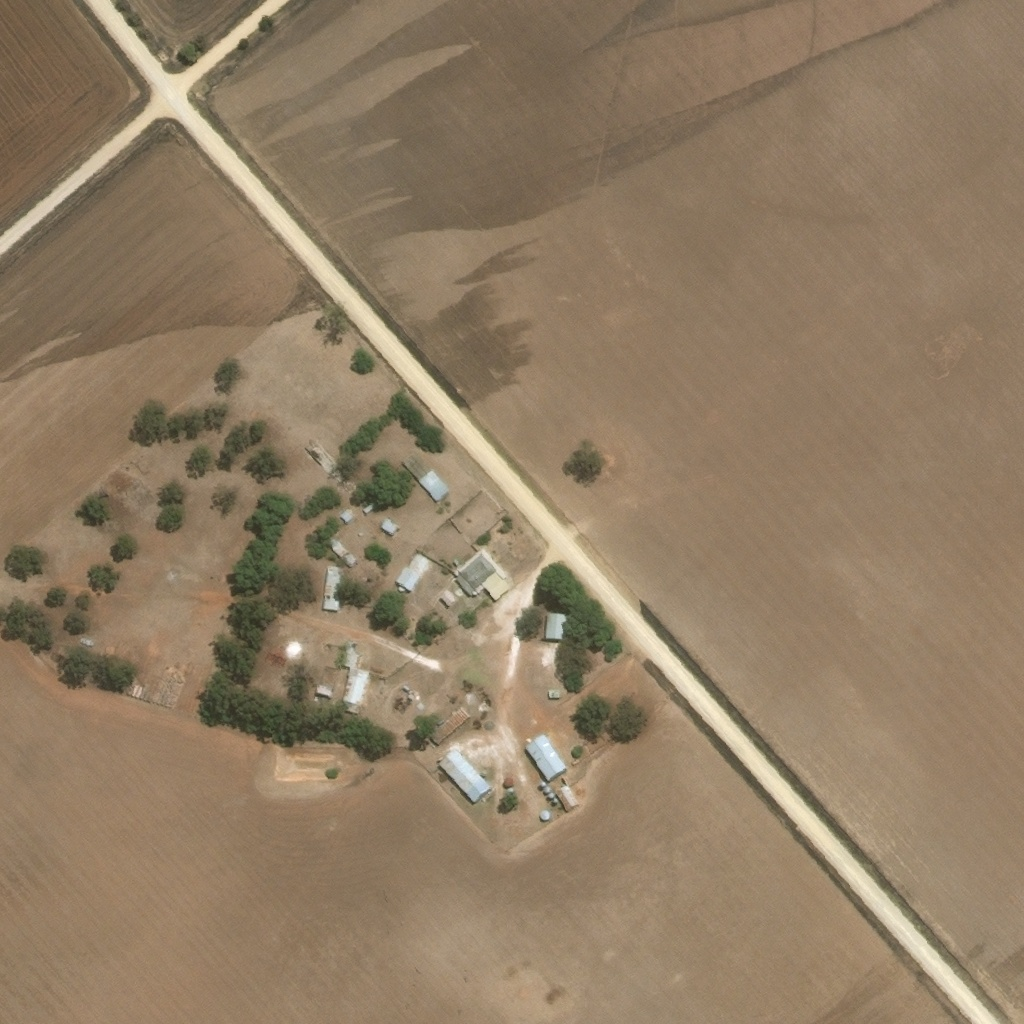0 no-damage: (438, 749, 491, 803), (455, 547, 509, 598), (401, 450, 452, 503), (525, 732, 569, 781), (340, 647, 369, 706), (394, 552, 430, 594), (325, 538, 358, 570), (482, 570, 512, 601), (322, 568, 340, 610), (556, 784, 579, 811), (546, 611, 568, 639), (379, 518, 397, 536), (440, 590, 457, 606), (339, 509, 355, 525), (361, 502, 376, 514), (503, 776, 514, 786), (549, 689, 561, 698), (548, 791, 557, 798), (452, 568, 460, 575), (545, 786, 552, 793), (540, 780, 546, 787), (481, 770, 487, 776)
3 destroyed: (309, 443, 326, 462)
4 un-classified: (482, 814, 496, 827)
